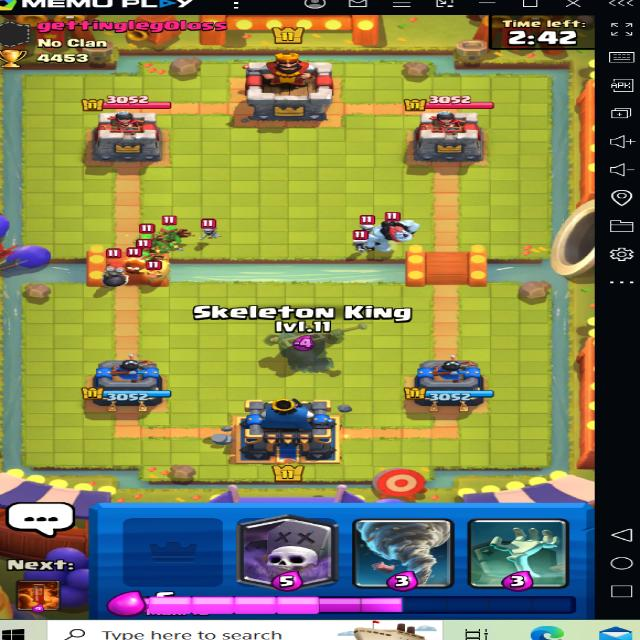Bomber: (96, 262, 134, 289)
Firespirit: (116, 247, 152, 276)
Healspirit: (141, 258, 177, 288)
Icegolem: (367, 212, 427, 260)
Skeleton: (196, 217, 228, 241), (348, 229, 374, 255), (354, 213, 379, 230)
Speargoblin: (124, 222, 167, 253), (159, 212, 190, 242)
